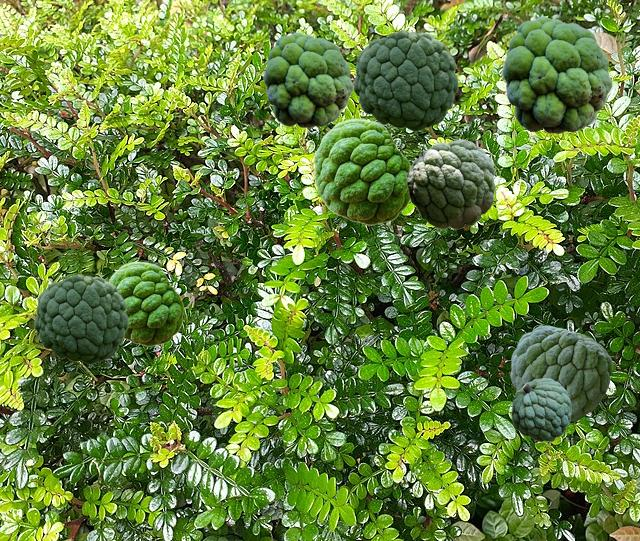atis: (502, 16, 611, 133), (353, 30, 457, 130), (314, 118, 410, 224), (510, 325, 611, 423), (263, 32, 352, 127), (34, 274, 127, 363), (406, 139, 494, 228), (109, 261, 183, 345), (512, 378, 570, 440)
